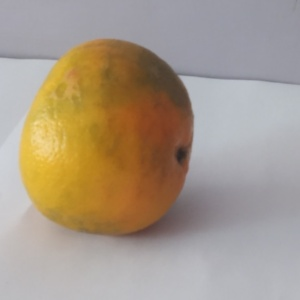BAD: (20, 38, 192, 234)
